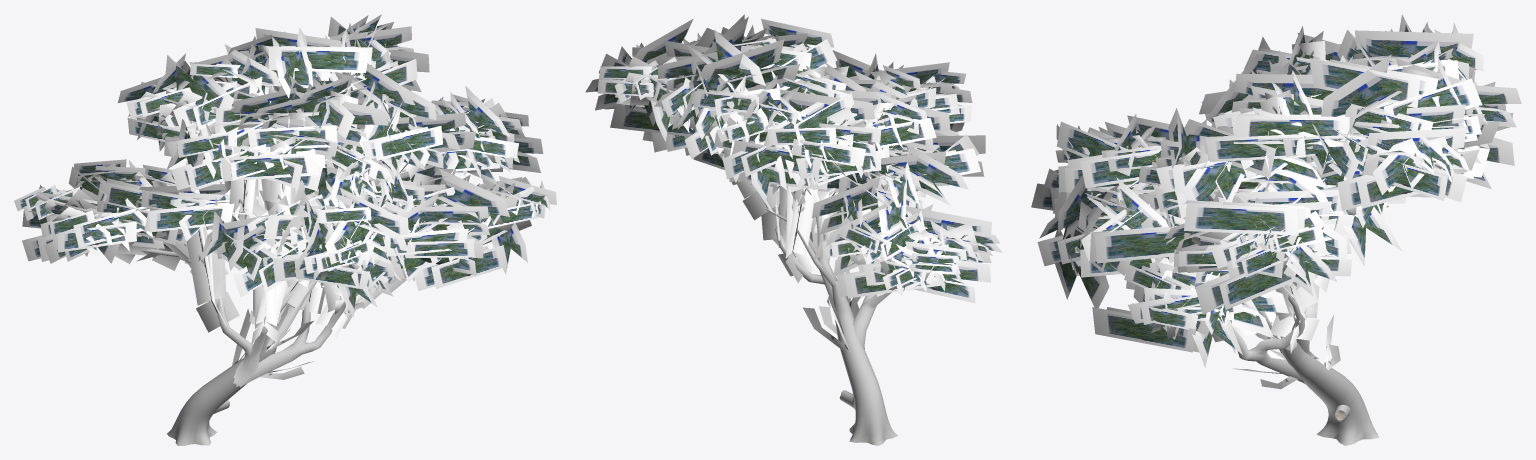
Rendered from Type_1_3.fbx.
The picture shows the model from 3 angles, left to right: view 1: azimuth 30°, elevation 25°; view 2: azimuth 150°, elevation 25°; view 3: azimuth 270°, elevation 25°; orthographic projection. The views are drawn at different scales.
Visible parts, largest first — view 1: Type_1_3; view 2: Type_1_3; view 3: Type_1_3.
Boxes of the visible parts, left/top/right/bottom form: Type_1_3: left=14, top=14, right=556, bottom=445; Type_1_3: left=585, top=14, right=1002, bottom=445; Type_1_3: left=1031, top=14, right=1521, bottom=445.
Bounding box in the file's own units: 21.73 × 17.29 × 16.92.
